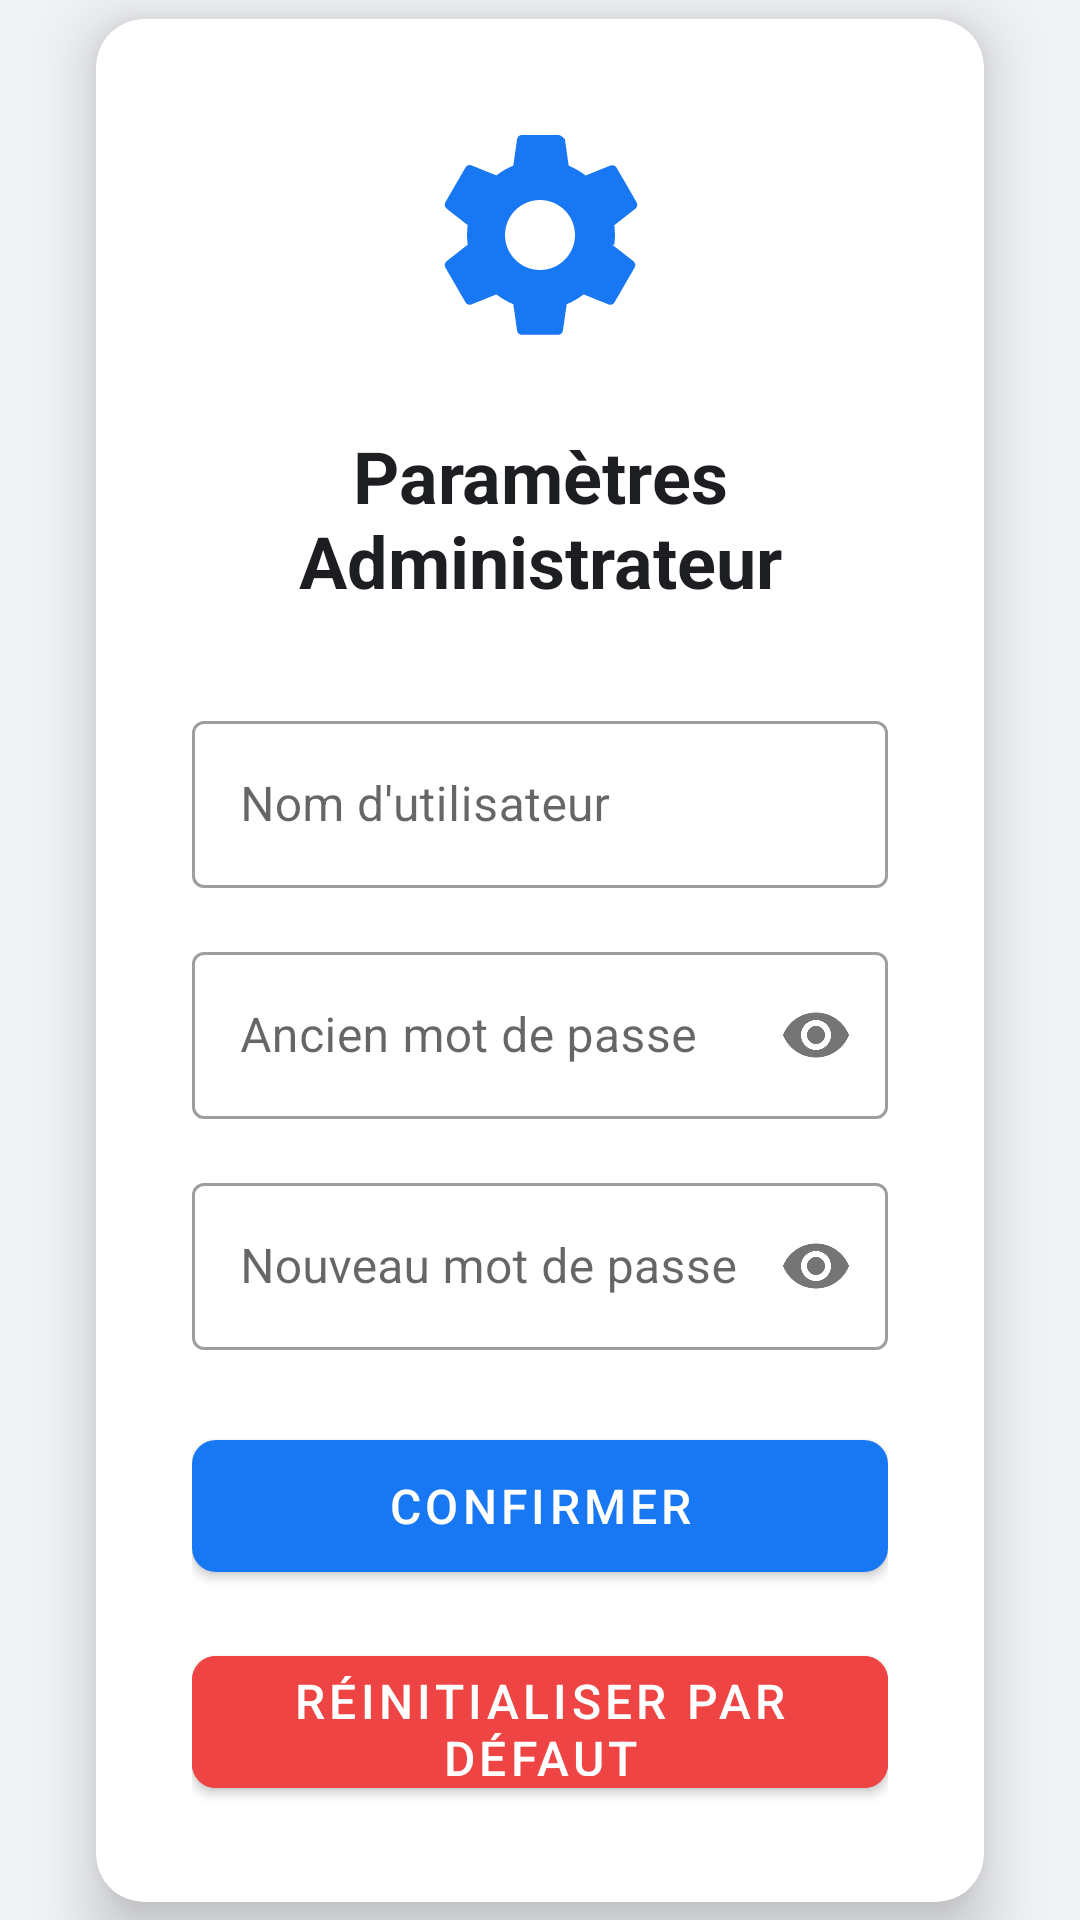

Where to tap for icons on this 1080px×1920px app screen, as (x=x, y=y):
settings: (x=541, y=235)
